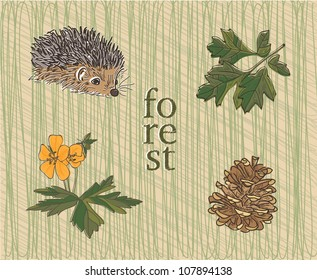Pc: (208, 153, 280, 232)
